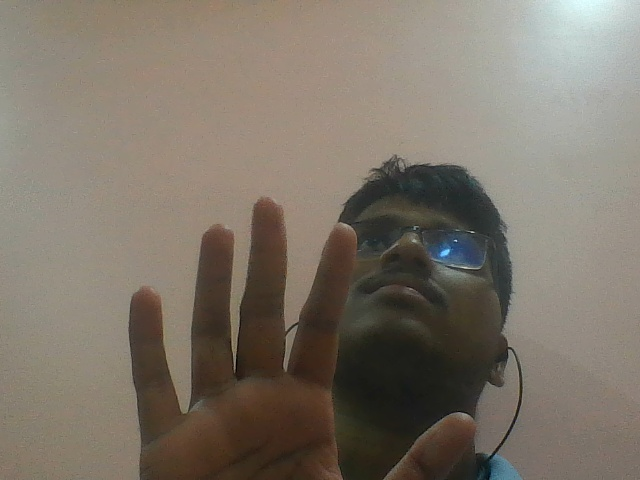Hello: (124, 192, 479, 480)
